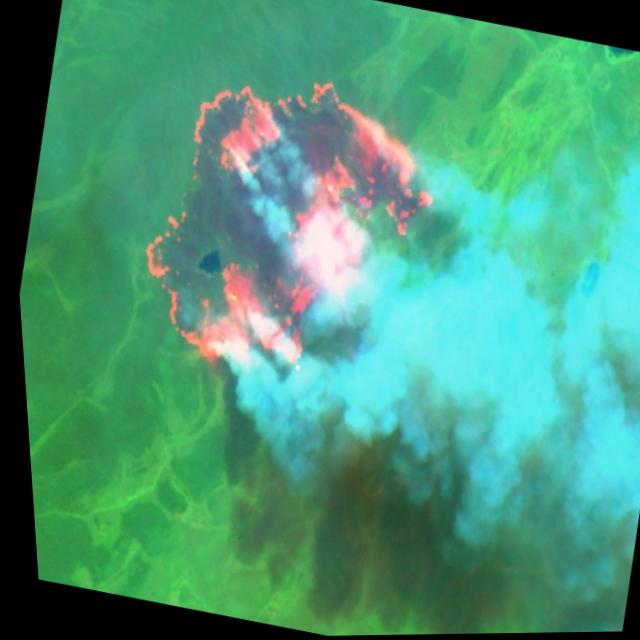fire: (103, 35, 470, 416)
